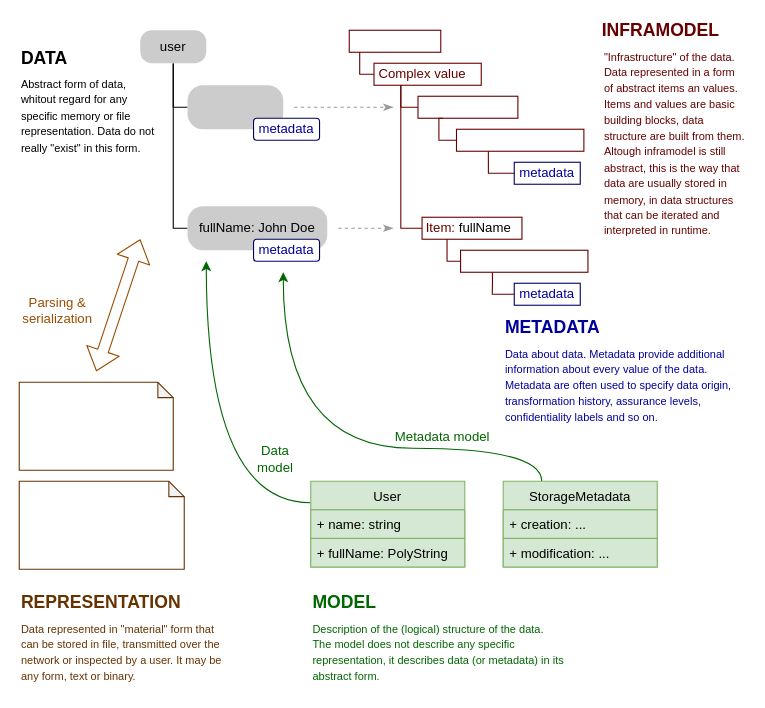
This 765x708 diagram has some shape labels left out. Here are the shapes that lost their labels. From the top down, the centre of each, then its label:
point (394, 40): Item: user
point (235, 107): name: john
point (467, 106): Item: name
point (519, 139): Value: "john"
point (523, 260): Value: "John Doe"
point (95, 425): <user> <name>john</name> <fullName>John Doe </user>
point (101, 524): "user" : { "name" : "john", "fullName" : "John Doe" }
